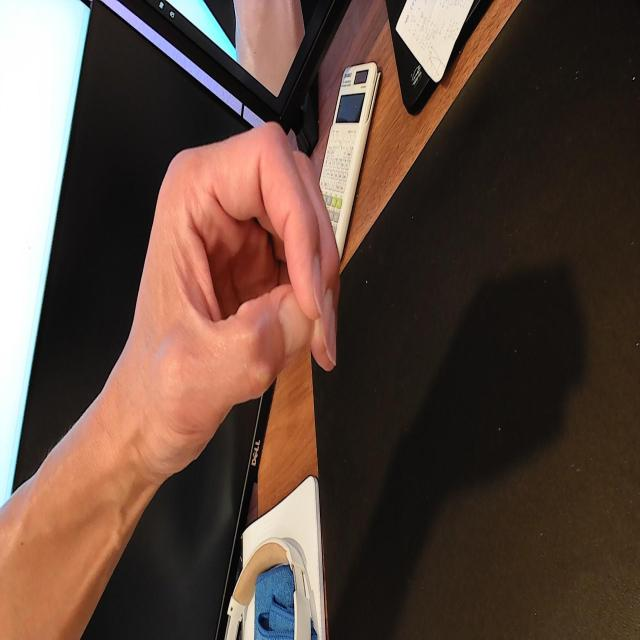O: (122, 113, 347, 478)
